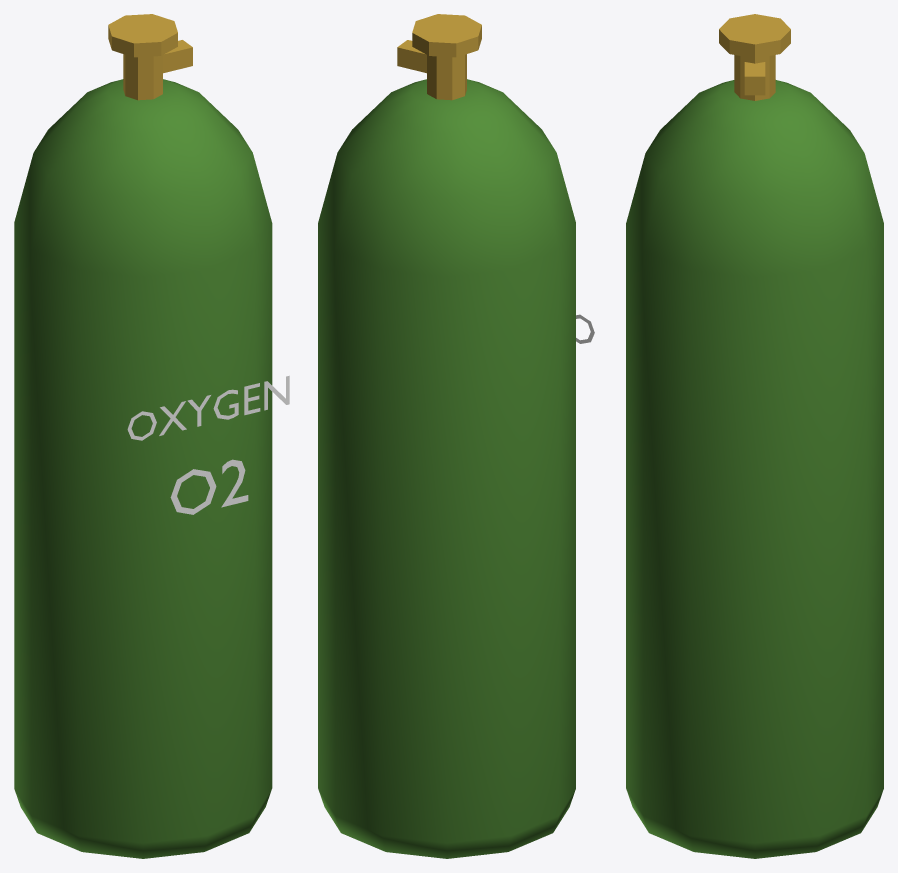
The model's file is oxygen.glb.
3 renders of one model, left to right at view 1: azimuth 30°, elevation 25°; view 2: azimuth 150°, elevation 25°; view 3: azimuth 270°, elevation 25°, orthographic.
Visible parts, largest first — view 1: O2Body, ValveWheel, O2Label, ValveNeck, O2Symbol, ValveOutlet; view 2: O2Body, ValveWheel, ValveNeck, ValveOutlet; view 3: O2Body, ValveWheel, ValveNeck, ValveOutlet.
Part boxes in pixels (x1=…): O2Body: x1=14, y1=79, x2=272, y2=858; ValveWheel: x1=108, y1=14, x2=177, y2=57; O2Label: x1=127, y1=375, x2=289, y2=440; ValveNeck: x1=123, y1=54, x2=162, y2=100; O2Symbol: x1=170, y1=459, x2=248, y2=514; ValveOutlet: x1=163, y1=40, x2=192, y2=73; O2Body: x1=318, y1=79, x2=575, y2=858; ValveWheel: x1=412, y1=14, x2=481, y2=57; ValveNeck: x1=427, y1=54, x2=466, y2=100; ValveOutlet: x1=397, y1=40, x2=426, y2=73; O2Body: x1=626, y1=80, x2=883, y2=858; ValveWheel: x1=719, y1=14, x2=790, y2=58; ValveNeck: x1=734, y1=55, x2=775, y2=100; ValveOutlet: x1=744, y1=62, x2=765, y2=95.
Size of the model in its own units: 0.5 by 1.66 by 0.506.
